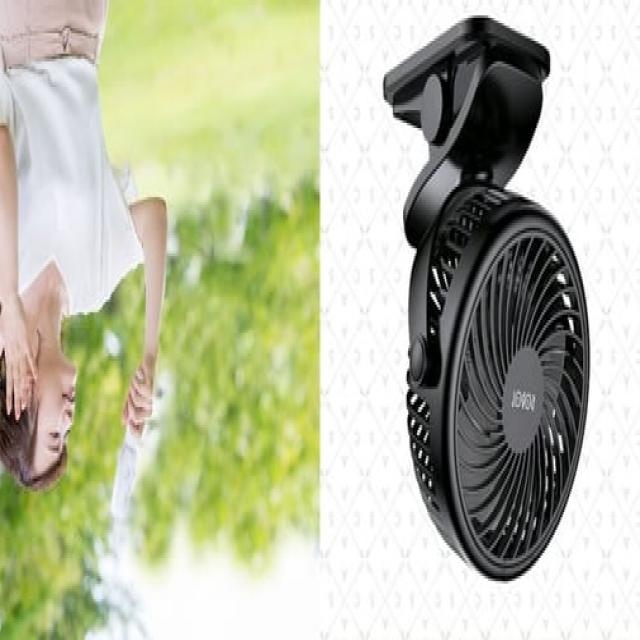fan: (378, 12, 594, 576)
